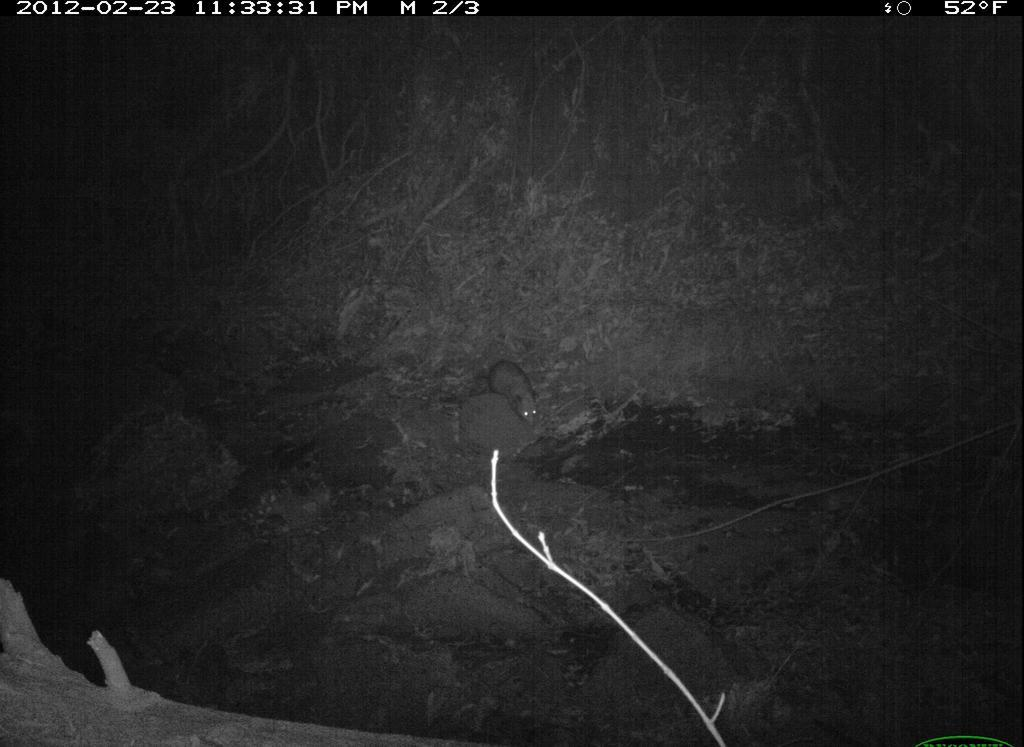opossum: (475, 347, 568, 452)
